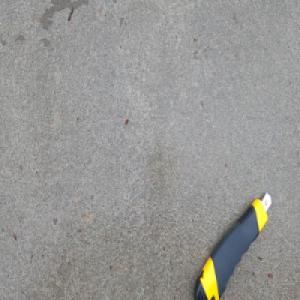Cutter: (191, 188, 272, 299)
